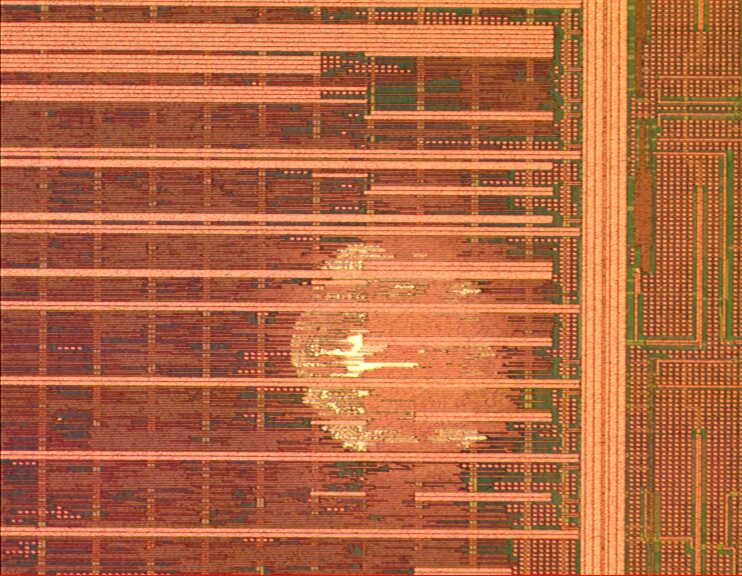BLOCK ETCH: (279, 227, 527, 475)
